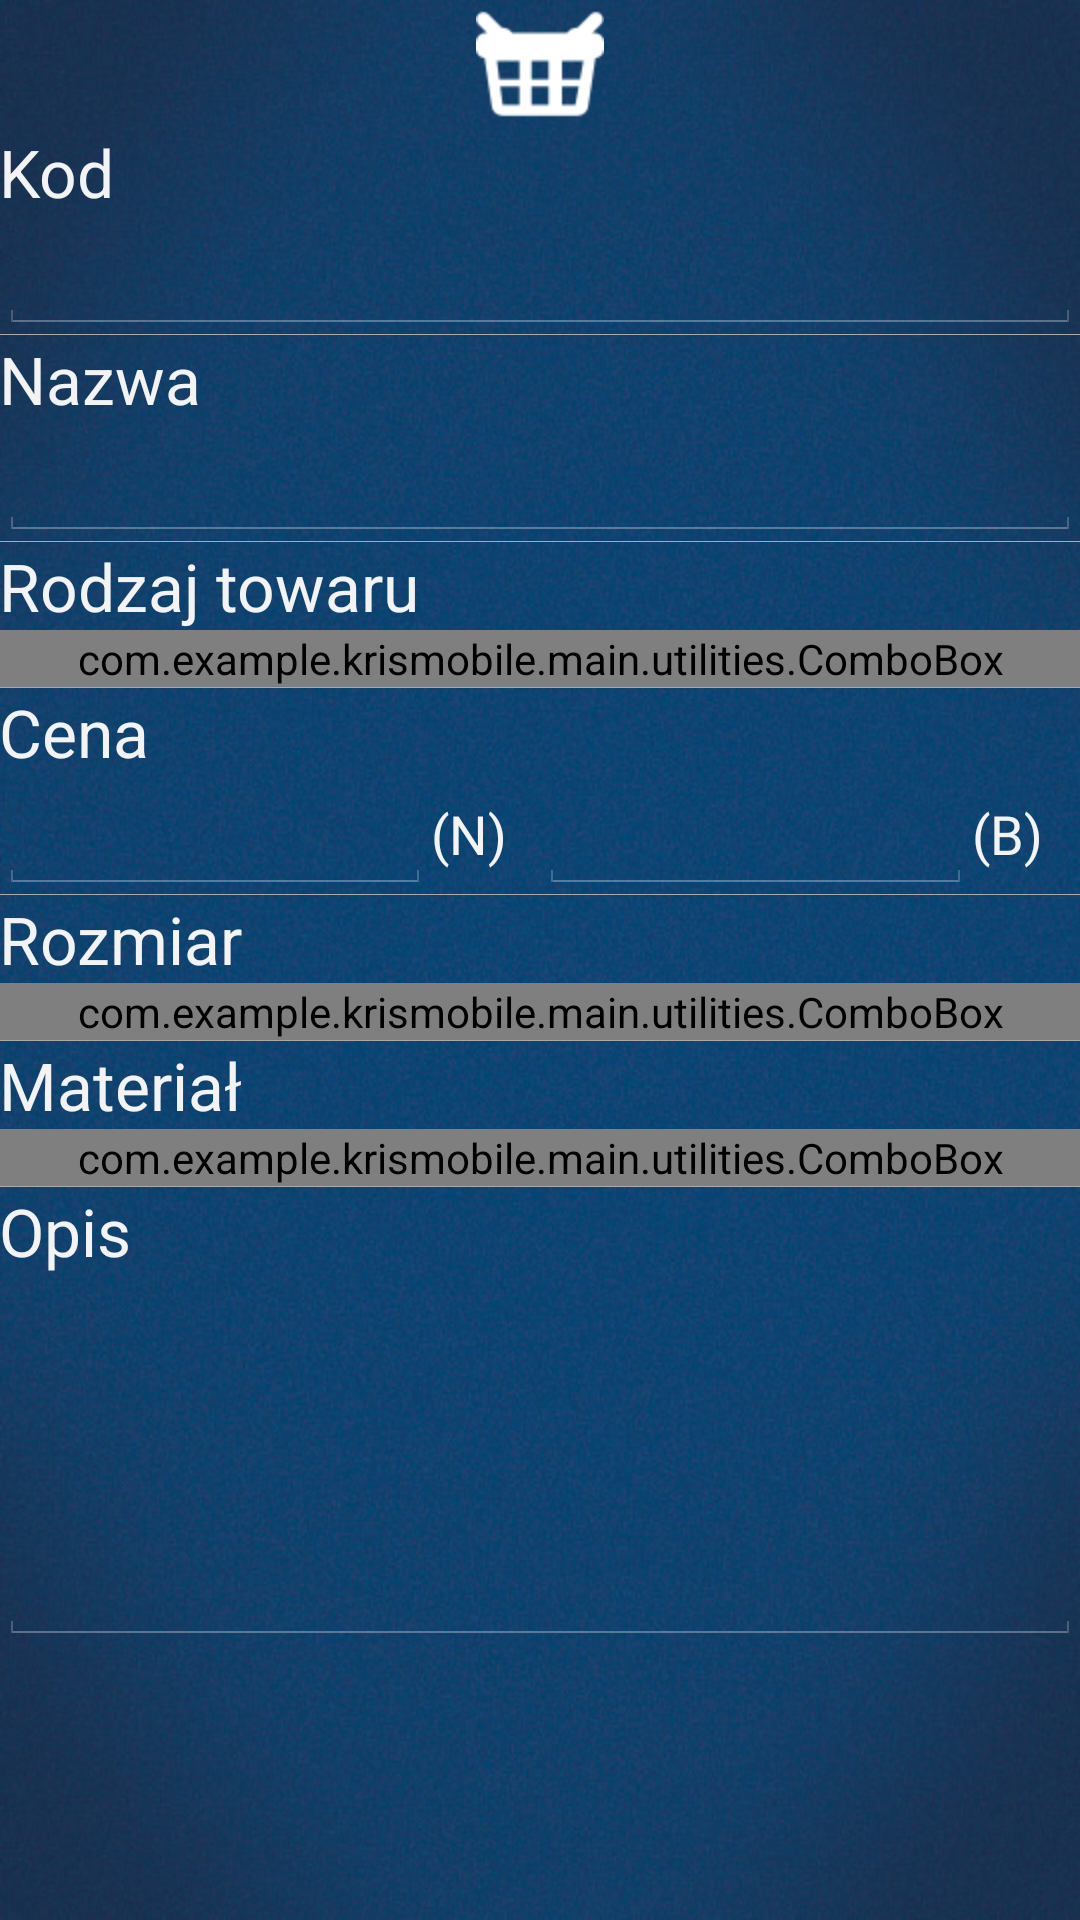

Screen size 1080 × 1920. Icon name, then its box in pixels as (x1, y1, x2, y2):
items: (476, 11, 604, 117)
